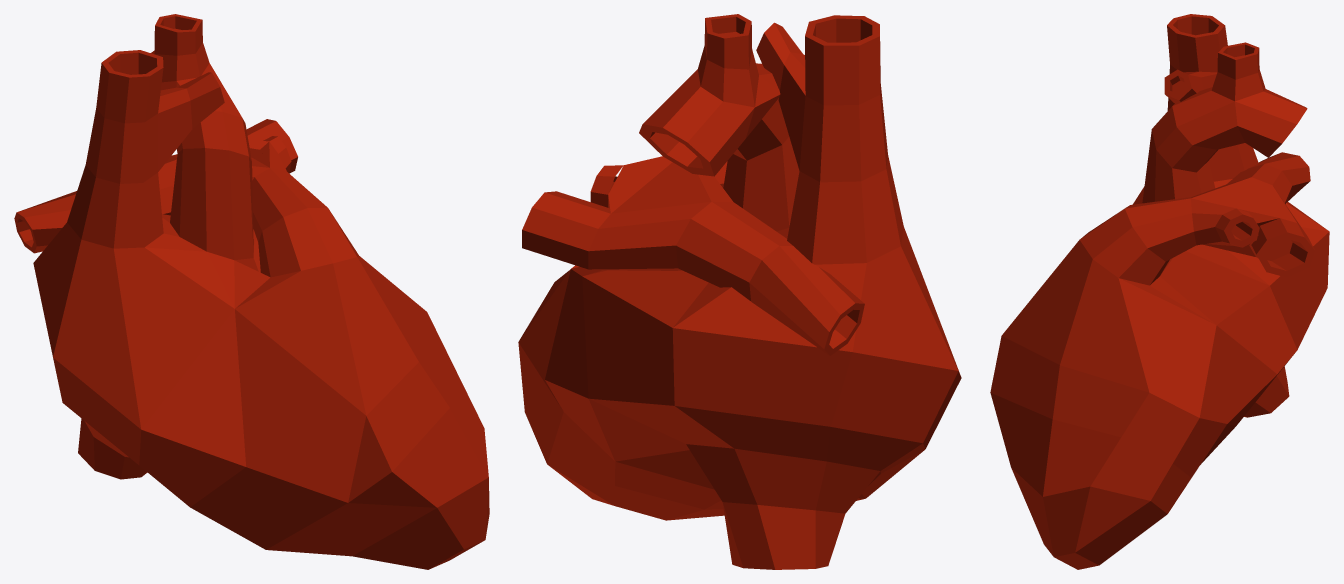
File: corazon.gltf
3 renders of one model, left to right at view 1: azimuth 30°, elevation 25°; view 2: azimuth 150°, elevation 25°; view 3: azimuth 270°, elevation 25°, orthographic. The views are drawn at different scales.
Visible parts, largest first — view 1: Heart; view 2: Heart; view 3: Heart.
Boxes of the visible parts, left/top/right/bottom form: Heart: left=14, top=14, right=489, bottom=569; Heart: left=518, top=14, right=961, bottom=569; Heart: left=990, top=14, right=1329, bottom=569.
Bounding box in the file's own units: 2.83 × 3.66 × 2.53.
1 material, 1 textured.
